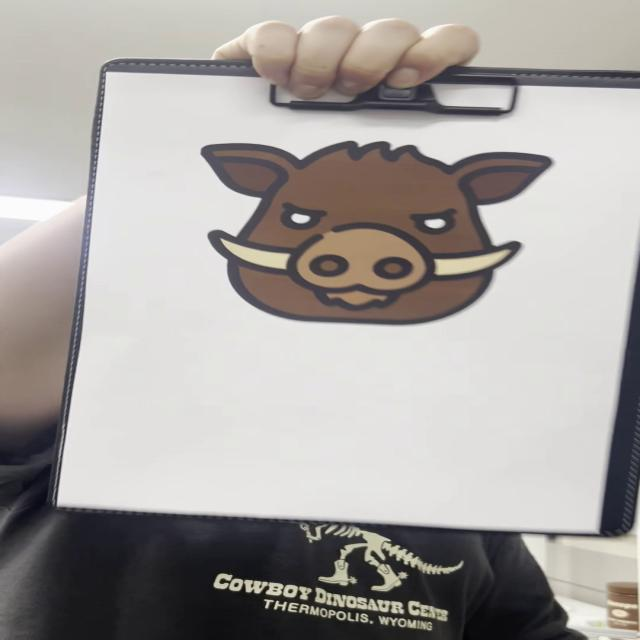animal: (201, 139, 554, 329)
